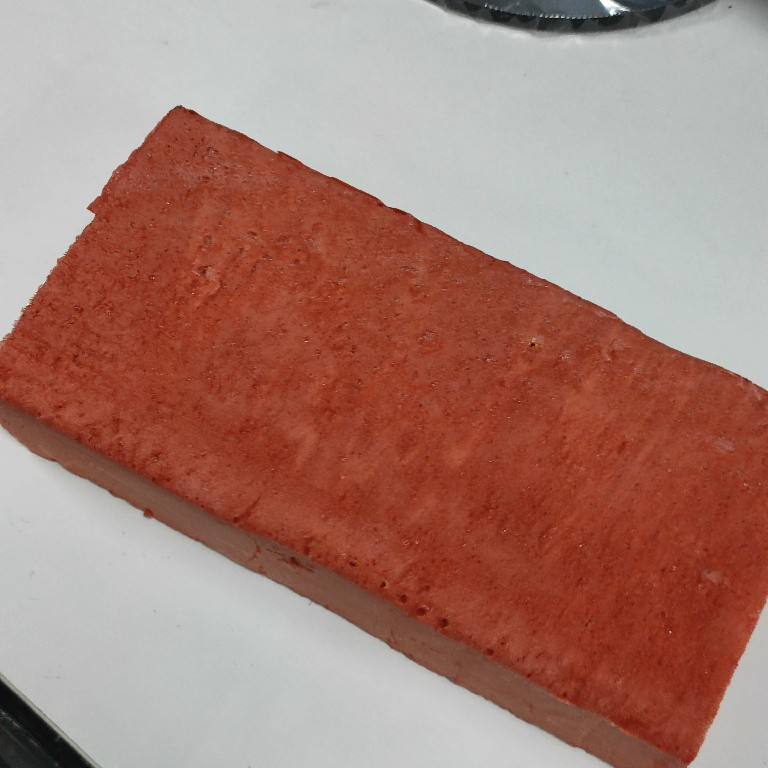brick: (1, 98, 768, 768)
